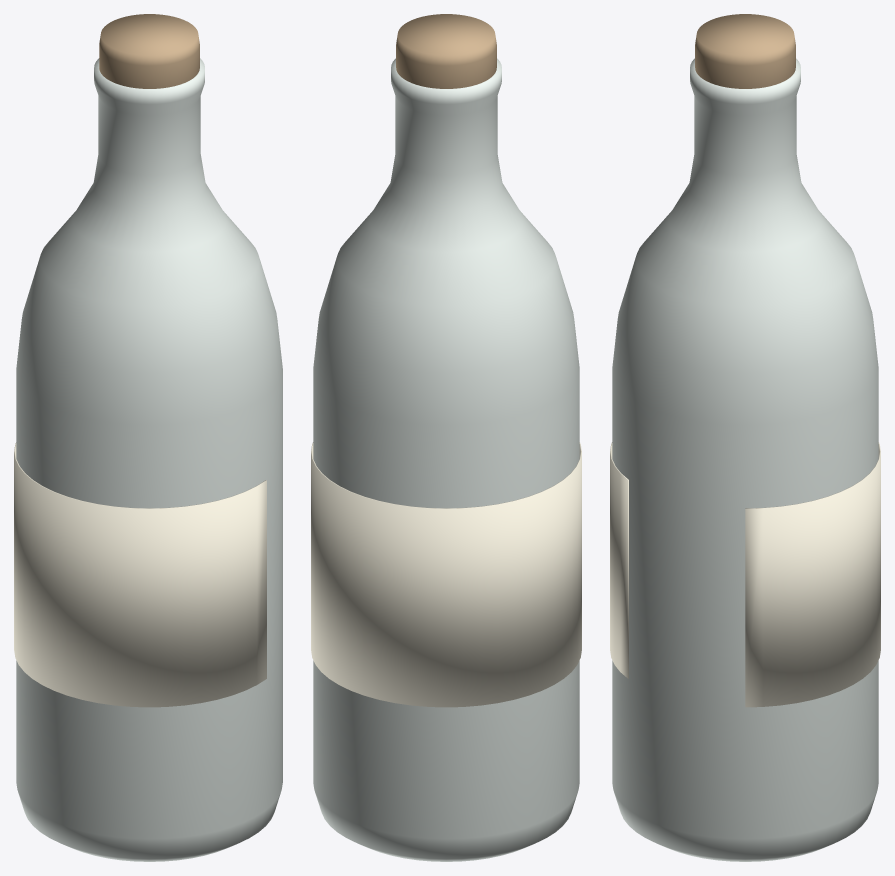
The model's file is bottle_whiskey.glb.
3 renders of one model, left to right at view 1: azimuth 30°, elevation 25°; view 2: azimuth 150°, elevation 25°; view 3: azimuth 270°, elevation 25°, orthographic.
Visible parts, largest first — view 1: Glass, Label, Cap; view 2: Glass, Label, Cap; view 3: Glass, Label, Cap.
Boxes of the visible parts, x1=… form: Glass: x1=16, y1=58, x2=282, y2=861; Label: x1=14, y1=442, x2=266, y2=707; Cap: x1=99, y1=14, x2=199, y2=88; Glass: x1=313, y1=58, x2=579, y2=861; Label: x1=311, y1=442, x2=581, y2=707; Cap: x1=396, y1=14, x2=496, y2=88; Glass: x1=612, y1=58, x2=878, y2=861; Label: x1=610, y1=442, x2=880, y2=707; Cap: x1=695, y1=14, x2=795, y2=88.
Size of the model in its own units: 0.0742 by 0.236 by 0.0742.
